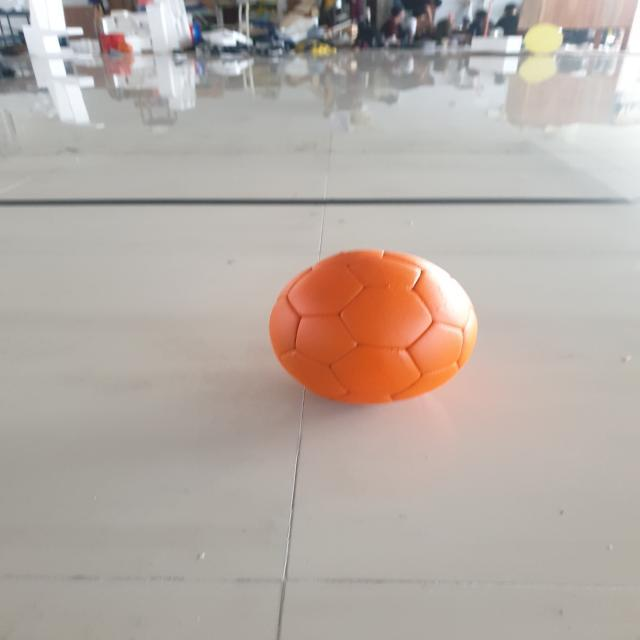bola: (268, 242, 480, 416)
